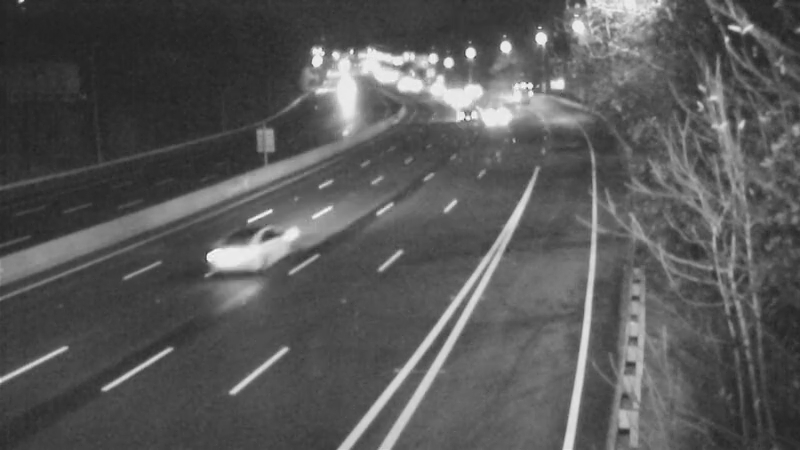vehicle: (193, 213, 273, 293), (448, 66, 498, 116), (409, 61, 459, 111), (436, 77, 486, 127), (495, 68, 545, 118), (441, 90, 491, 140), (464, 95, 514, 145)
